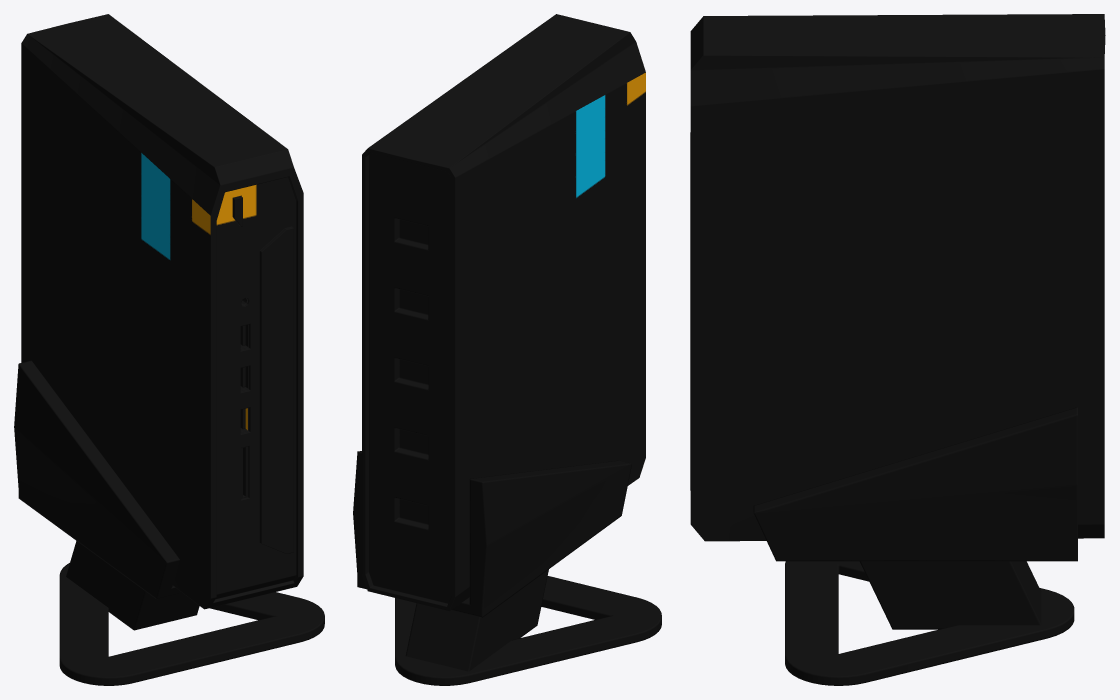
Rendered from office_ws_pc.fbx.
The picture shows the model from 3 angles, left to right: view 1: azimuth 30°, elevation 25°; view 2: azimuth 150°, elevation 25°; view 3: azimuth 270°, elevation 25°; orthographic projection. The views are drawn at different scales.
Visible parts, largest first — view 1: office_ws_pc; view 2: office_ws_pc; view 3: office_ws_pc.
Part boxes in pixels (x1,y1,x2,y2): office_ws_pc: (14,14,324,685); office_ws_pc: (353,14,661,685); office_ws_pc: (690,14,1105,685).
Size of the model in its own units: 0.1276 by 0.2575 by 0.1665.
Materials: 2 (1 with a texture image).
